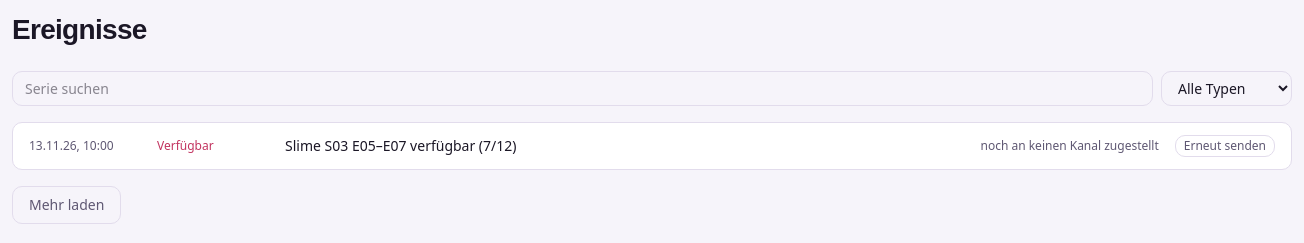
pagination and undelivered events
The image size is (1304, 243).
Expected: the text "noch an keinen Kanal zugestellt" is shown, [980,138,1159,154]
Click the button "Mehr laden".
click(67, 205)  # box [12,186,121,224]
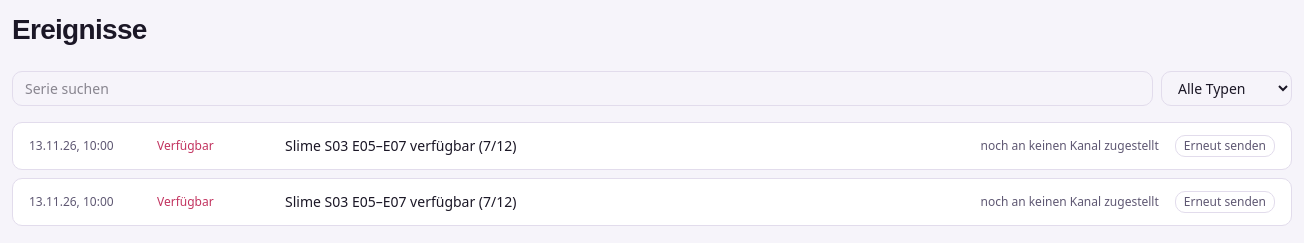
Expected: the text "noch an keinen Kanal zugestellt" is shown 2 times, [980,138,1159,154]; [980,194,1159,210]
